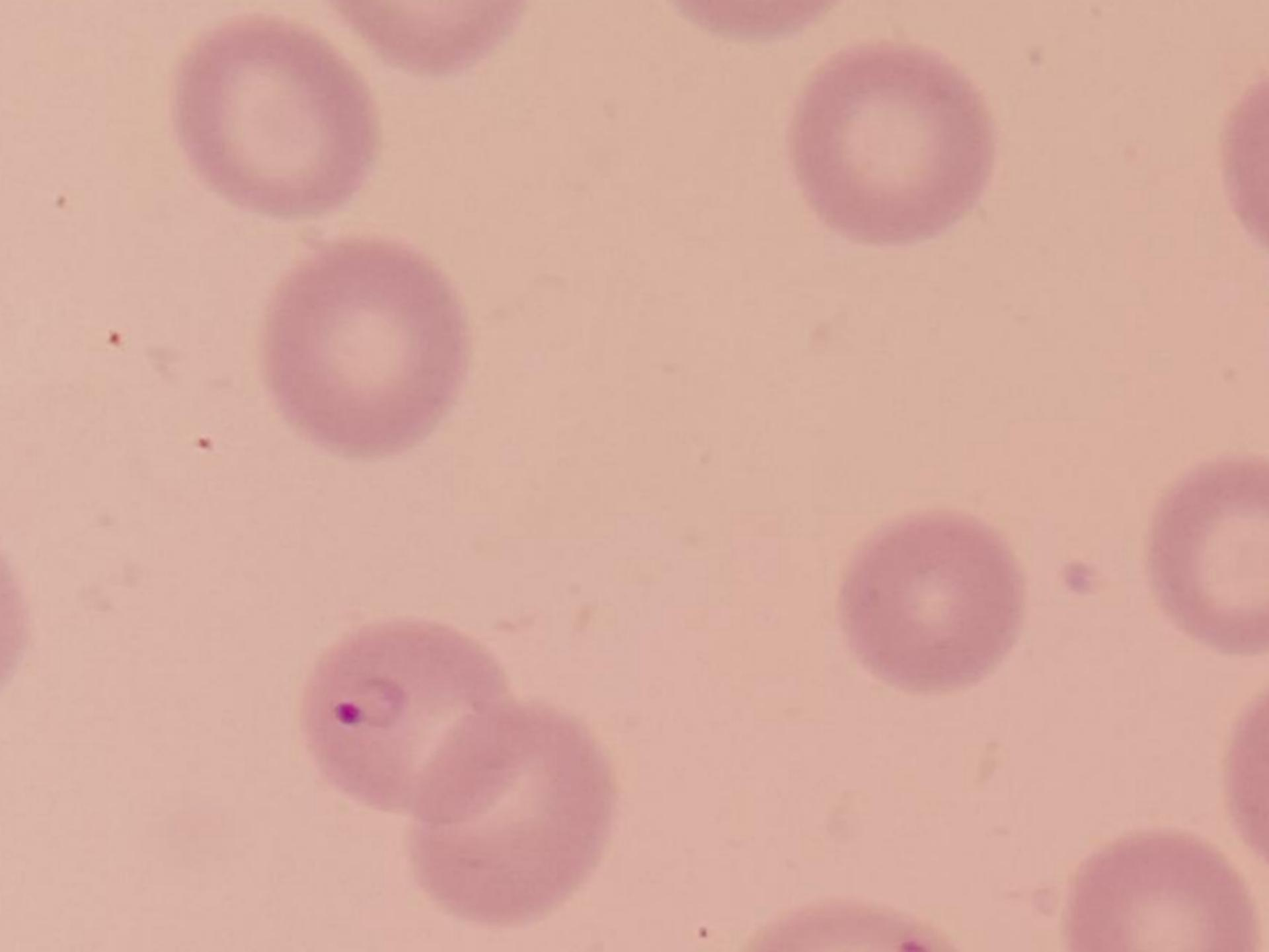Infected: (289, 615, 523, 826)
Uninfected: (260, 234, 474, 458), (405, 710, 618, 924), (793, 36, 996, 245), (183, 14, 376, 212), (833, 523, 1021, 685), (1150, 448, 1269, 660), (1062, 829, 1254, 952)
